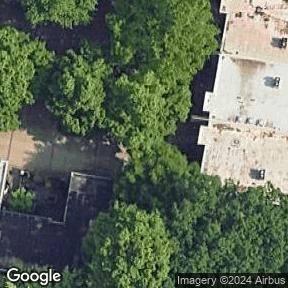vegetation: (7, 187, 38, 212), (1, 277, 40, 288)
